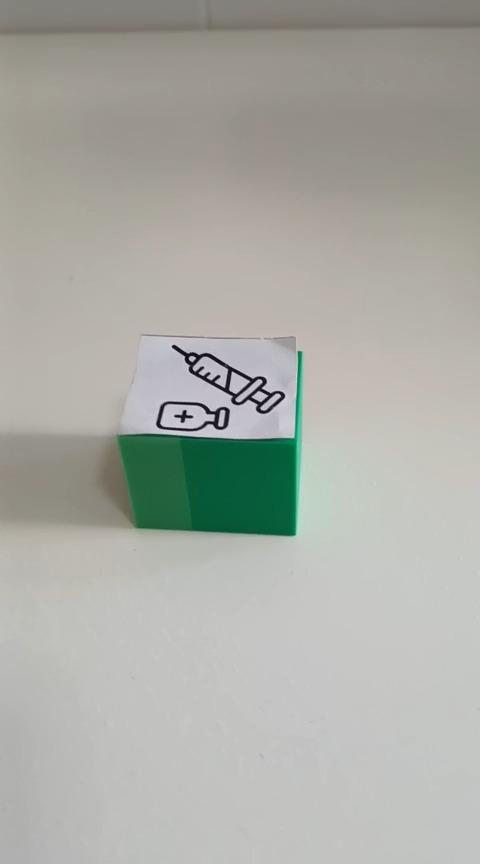antiseptic cream: (115, 332, 303, 536)
